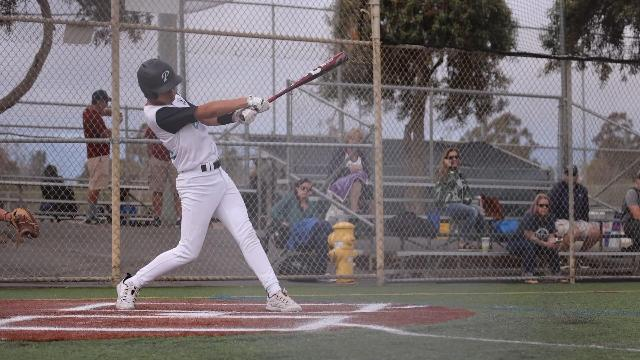baseball bat: (266, 52, 350, 105)
